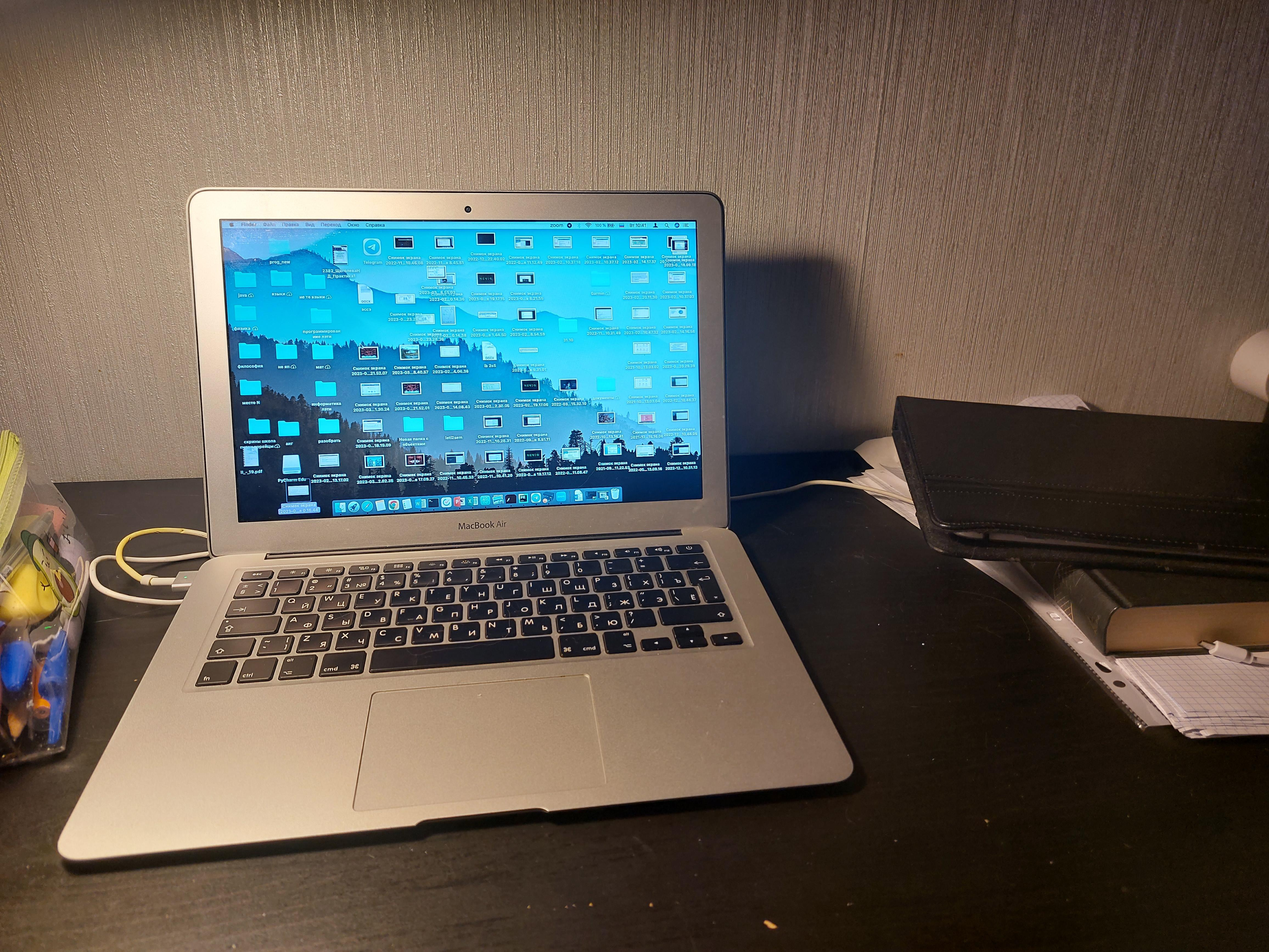monitor: (187, 180, 733, 550)
